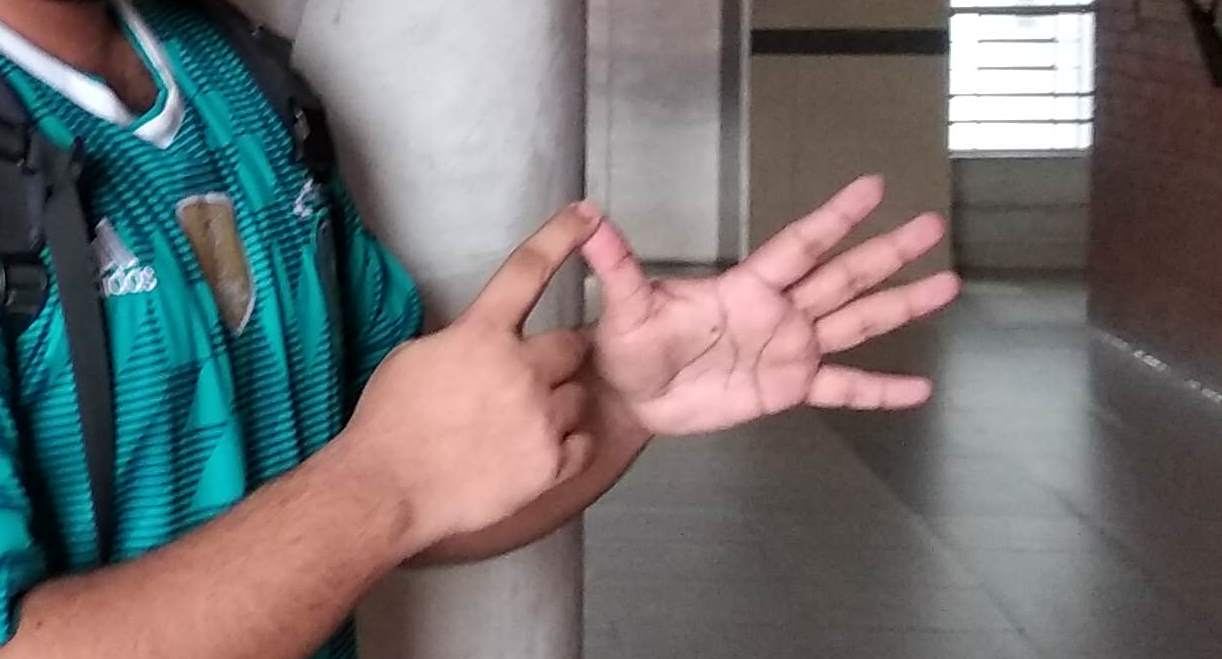a: (474, 168, 941, 468)
